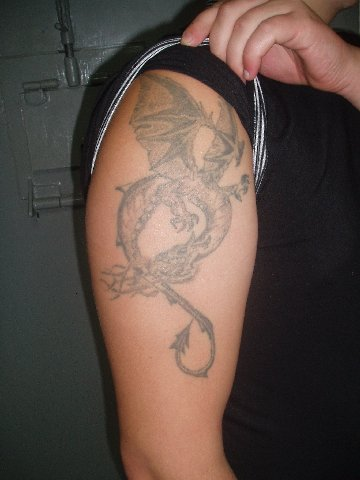tatu6_drakon: (85, 58, 291, 398)
